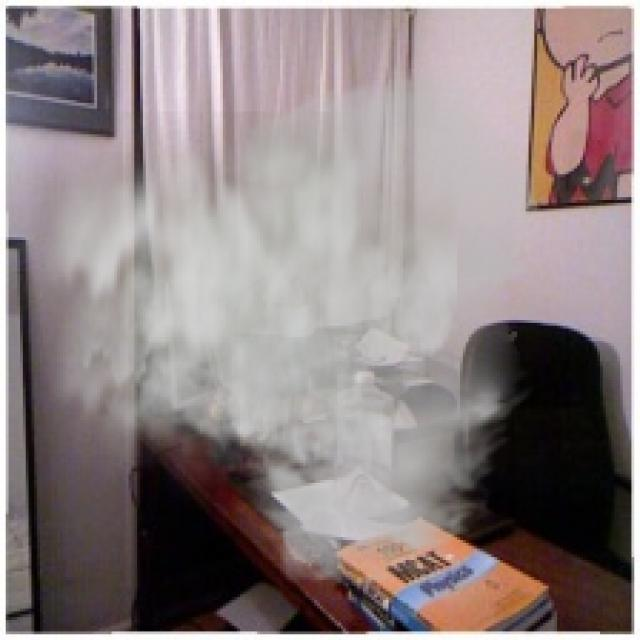smoke: (17, 60, 546, 591)
